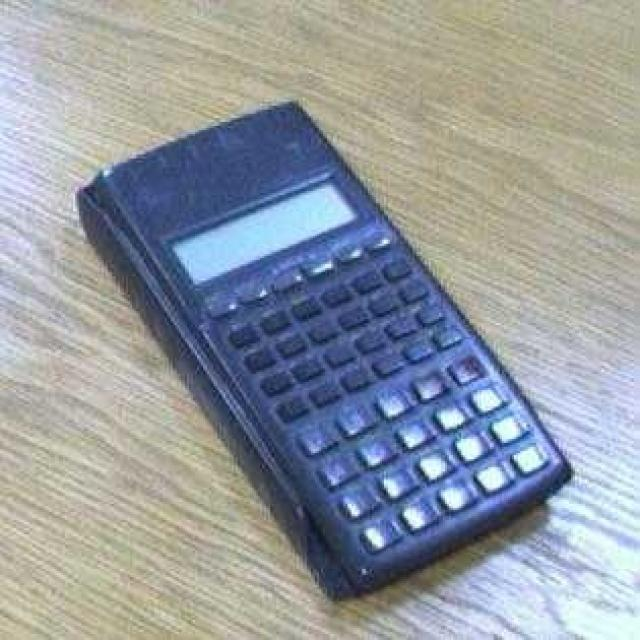Calculator: (73, 96, 573, 602)
